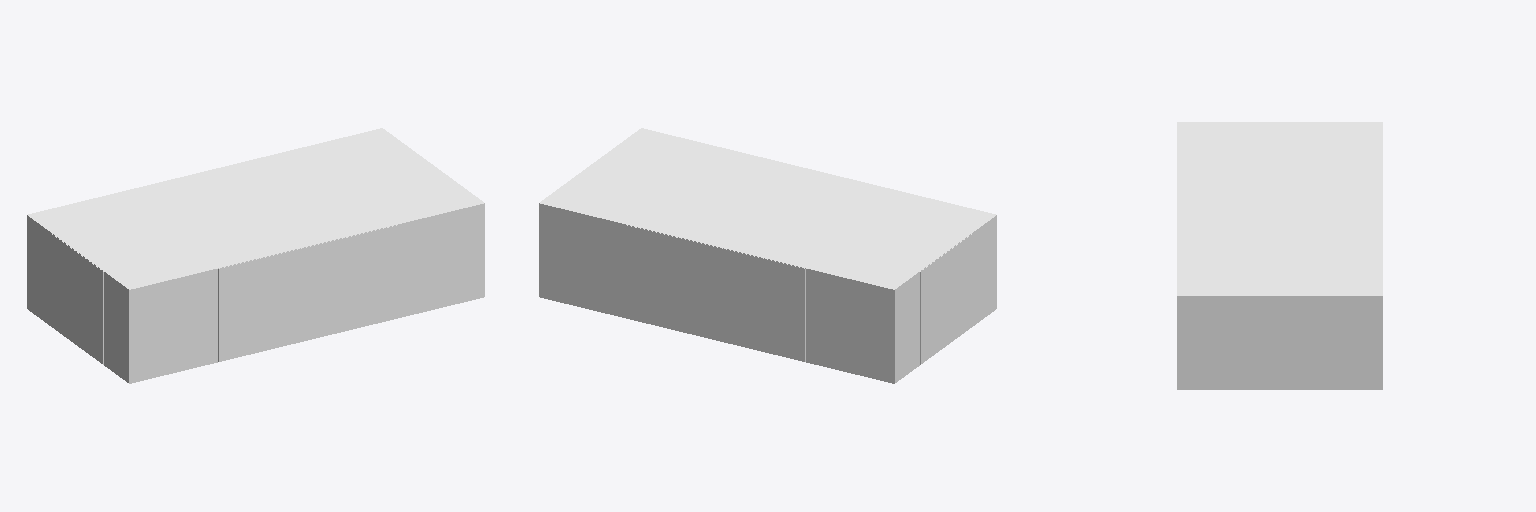
The model's file is intro.obj.
3 renders of one model, left to right at view 1: azimuth 30°, elevation 25°; view 2: azimuth 150°, elevation 25°; view 3: azimuth 270°, elevation 25°, orthographic.
Visible parts, largest first — view 1: concretewall03a.png, metal02.png; view 2: concretewall03a.png, metal02.png; view 3: metal02.png, concretewall03a.png.
Part boxes in pixels (bbox=[...]): concretewall03a.png: bbox=[27, 204, 484, 383]; metal02.png: bbox=[27, 128, 484, 289]; concretewall03a.png: bbox=[539, 204, 996, 383]; metal02.png: bbox=[539, 128, 996, 289]; metal02.png: bbox=[1177, 122, 1382, 296]; concretewall03a.png: bbox=[1177, 296, 1382, 389].
Bounding box in the file's own units: 401 × 101 × 201.